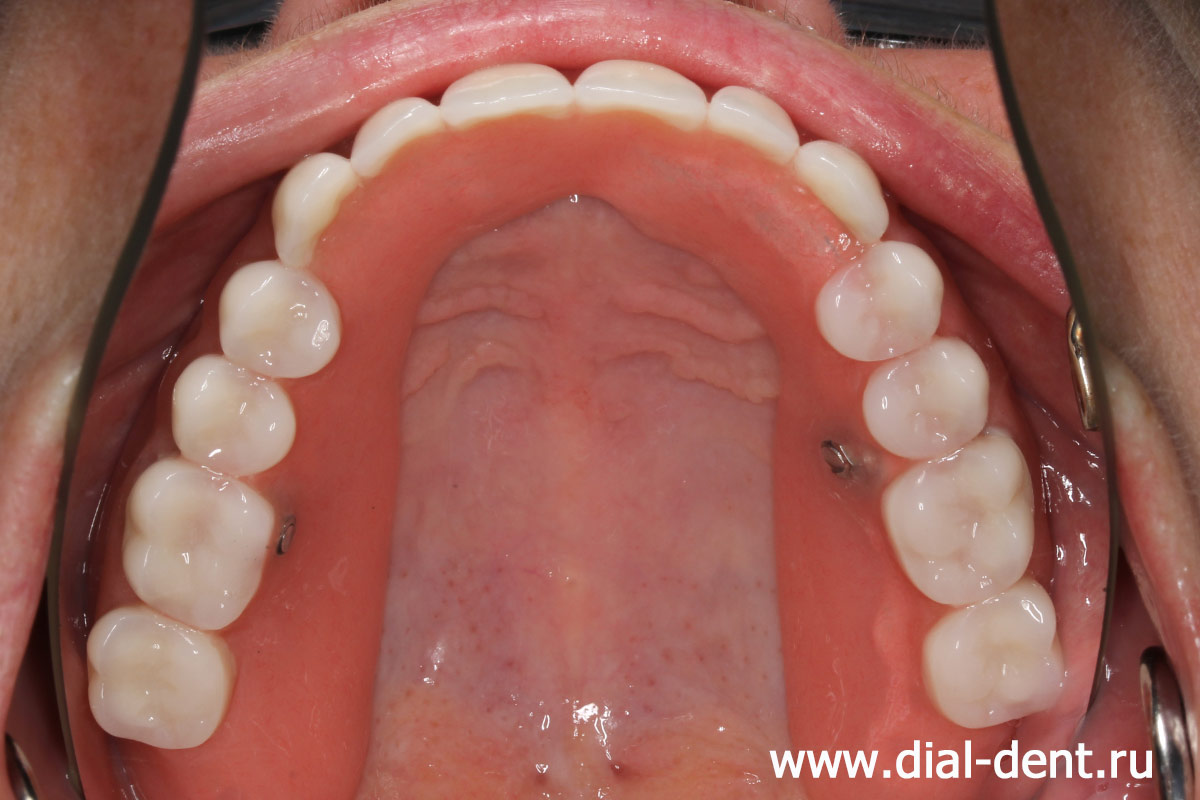UL1BC_healthy: (817, 242, 942, 361)
UL1M_healthy: (884, 440, 1030, 604)
UL2BC_healthy: (865, 340, 987, 457)
UL2M_healthy: (927, 591, 1061, 725)
ULCI_healthy: (573, 59, 705, 136)
ULC_healthy: (798, 142, 886, 243)
ULLI_healthy: (712, 87, 798, 167)
UR1BC_healthy: (219, 262, 340, 378)
UR1M_healthy: (127, 465, 271, 629)
UR2BC_healthy: (172, 354, 295, 475)
UR2M_healthy: (88, 608, 225, 749)
URCI_healthy: (443, 64, 573, 129)
URC_healthy: (272, 154, 350, 268)
URLI_healthy: (352, 100, 440, 179)
